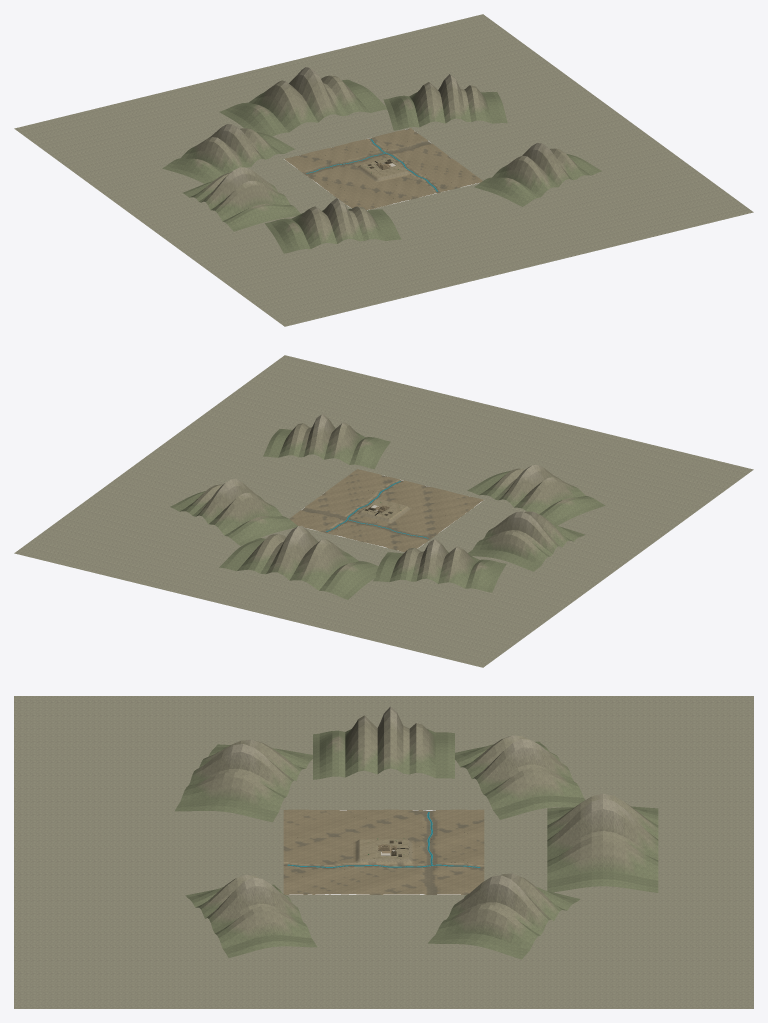
3 renders of one model, top to bottom at view 1: azimuth 30°, elevation 25°; view 2: azimuth 150°, elevation 25°; view 3: azimuth 270°, elevation 25°, orthographic. The views are drawn at different scales.
Parts seen in each view (by area): view 1: GEO-Chavin_LOD1_Terrain; view 2: GEO-Chavin_LOD1_Terrain; view 3: GEO-Chavin_LOD1_Terrain.
Boxes of the visible parts, <box> form: GEO-Chavin_LOD1_Terrain: <box>14,14,753,326</box>; GEO-Chavin_LOD1_Terrain: <box>14,355,753,667</box>; GEO-Chavin_LOD1_Terrain: <box>14,696,753,1008</box>.
Size of the model in its own units: 4800 by 419 by 4800.
Materials: 13 (6 with a texture image).
